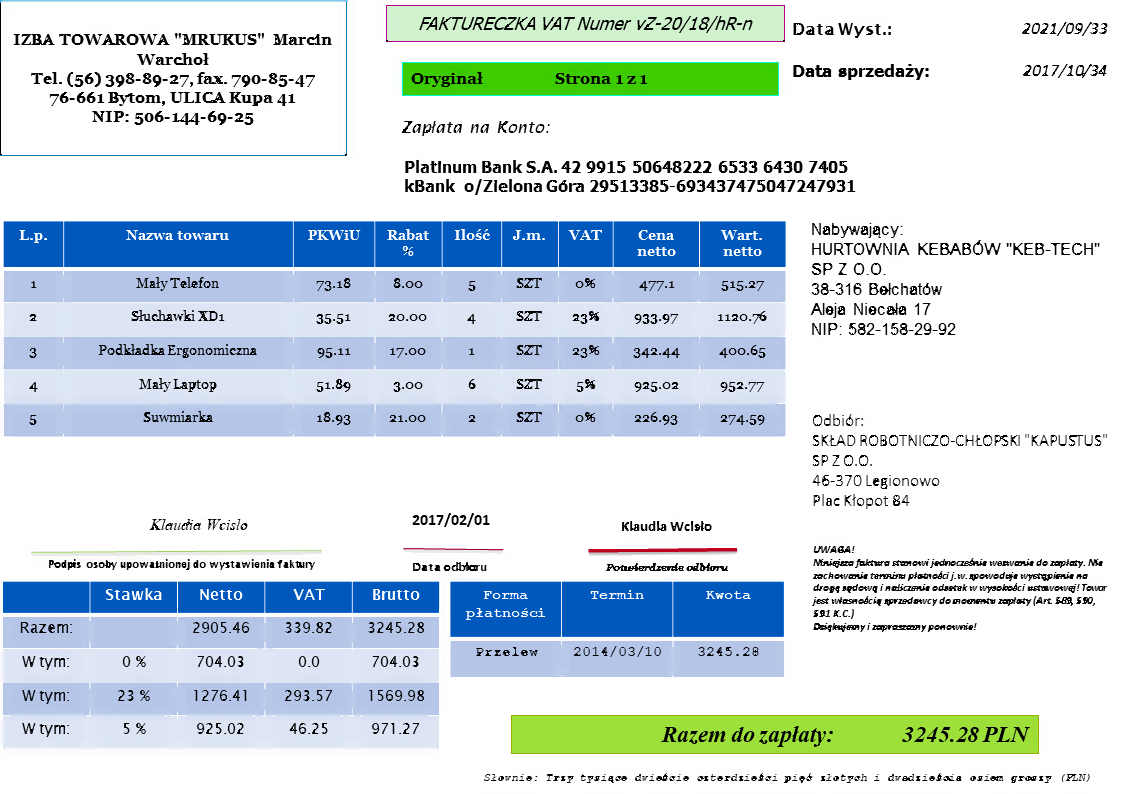Table: (2, 219, 787, 439), (1, 580, 439, 751), (448, 579, 786, 679)
TextBox: (809, 219, 1104, 339), (10, 28, 333, 130), (810, 411, 1111, 512), (809, 541, 1111, 636), (400, 157, 857, 196), (659, 722, 1031, 750), (480, 770, 1094, 785), (415, 12, 757, 35), (408, 66, 650, 90), (46, 556, 319, 573), (399, 115, 553, 139), (788, 59, 933, 84), (791, 18, 895, 41), (146, 513, 250, 534), (1019, 17, 1109, 40), (603, 559, 731, 575), (1020, 59, 1109, 80), (408, 510, 493, 530), (617, 518, 713, 535), (409, 559, 487, 574)
